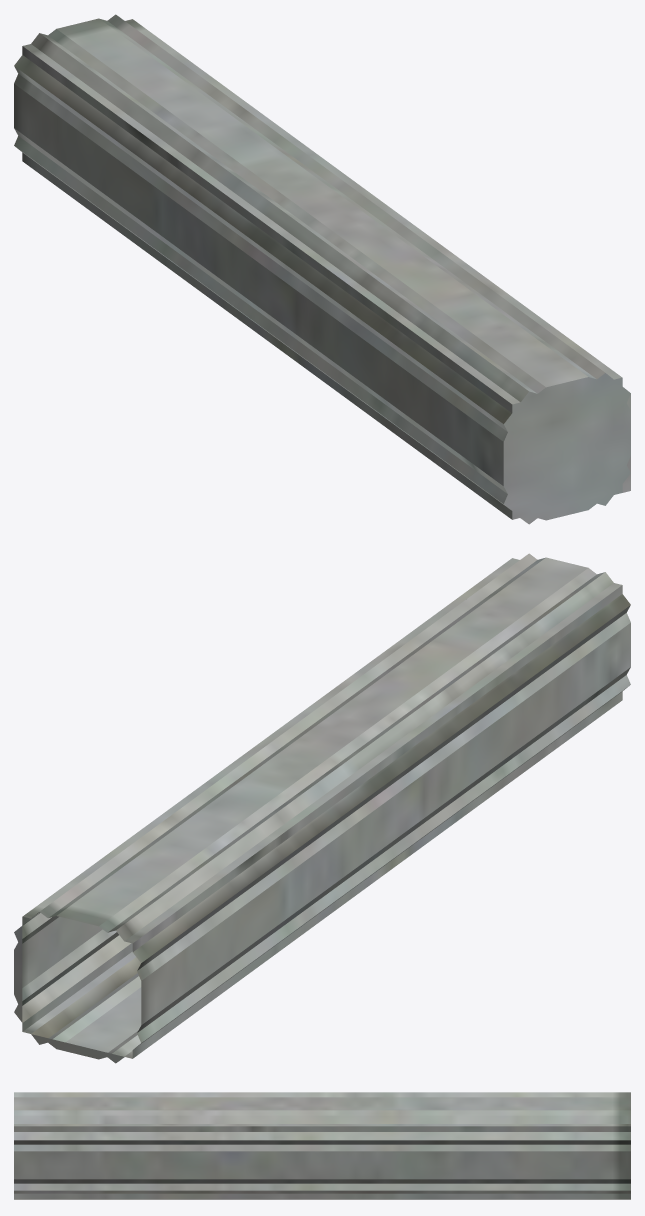
Rendered from KiDoong.fbx.
3 views of the same model, one above another, from view 1: azimuth 30°, elevation 25°; view 2: azimuth 150°, elevation 25°; view 3: azimuth 270°, elevation 25° (orthographic). The views are drawn at different scales.
Visible parts, largest first — view 1: ID150; view 2: ID150; view 3: ID150.
Part boxes in pixels (box(x1,y1,x2,y2)): ID150: box(14, 14, 630, 524); ID150: box(14, 553, 630, 1063); ID150: box(14, 1092, 630, 1199).
Bounding box in the file's own units: 18 × 18 × 120.
1 material, 1 textured.
